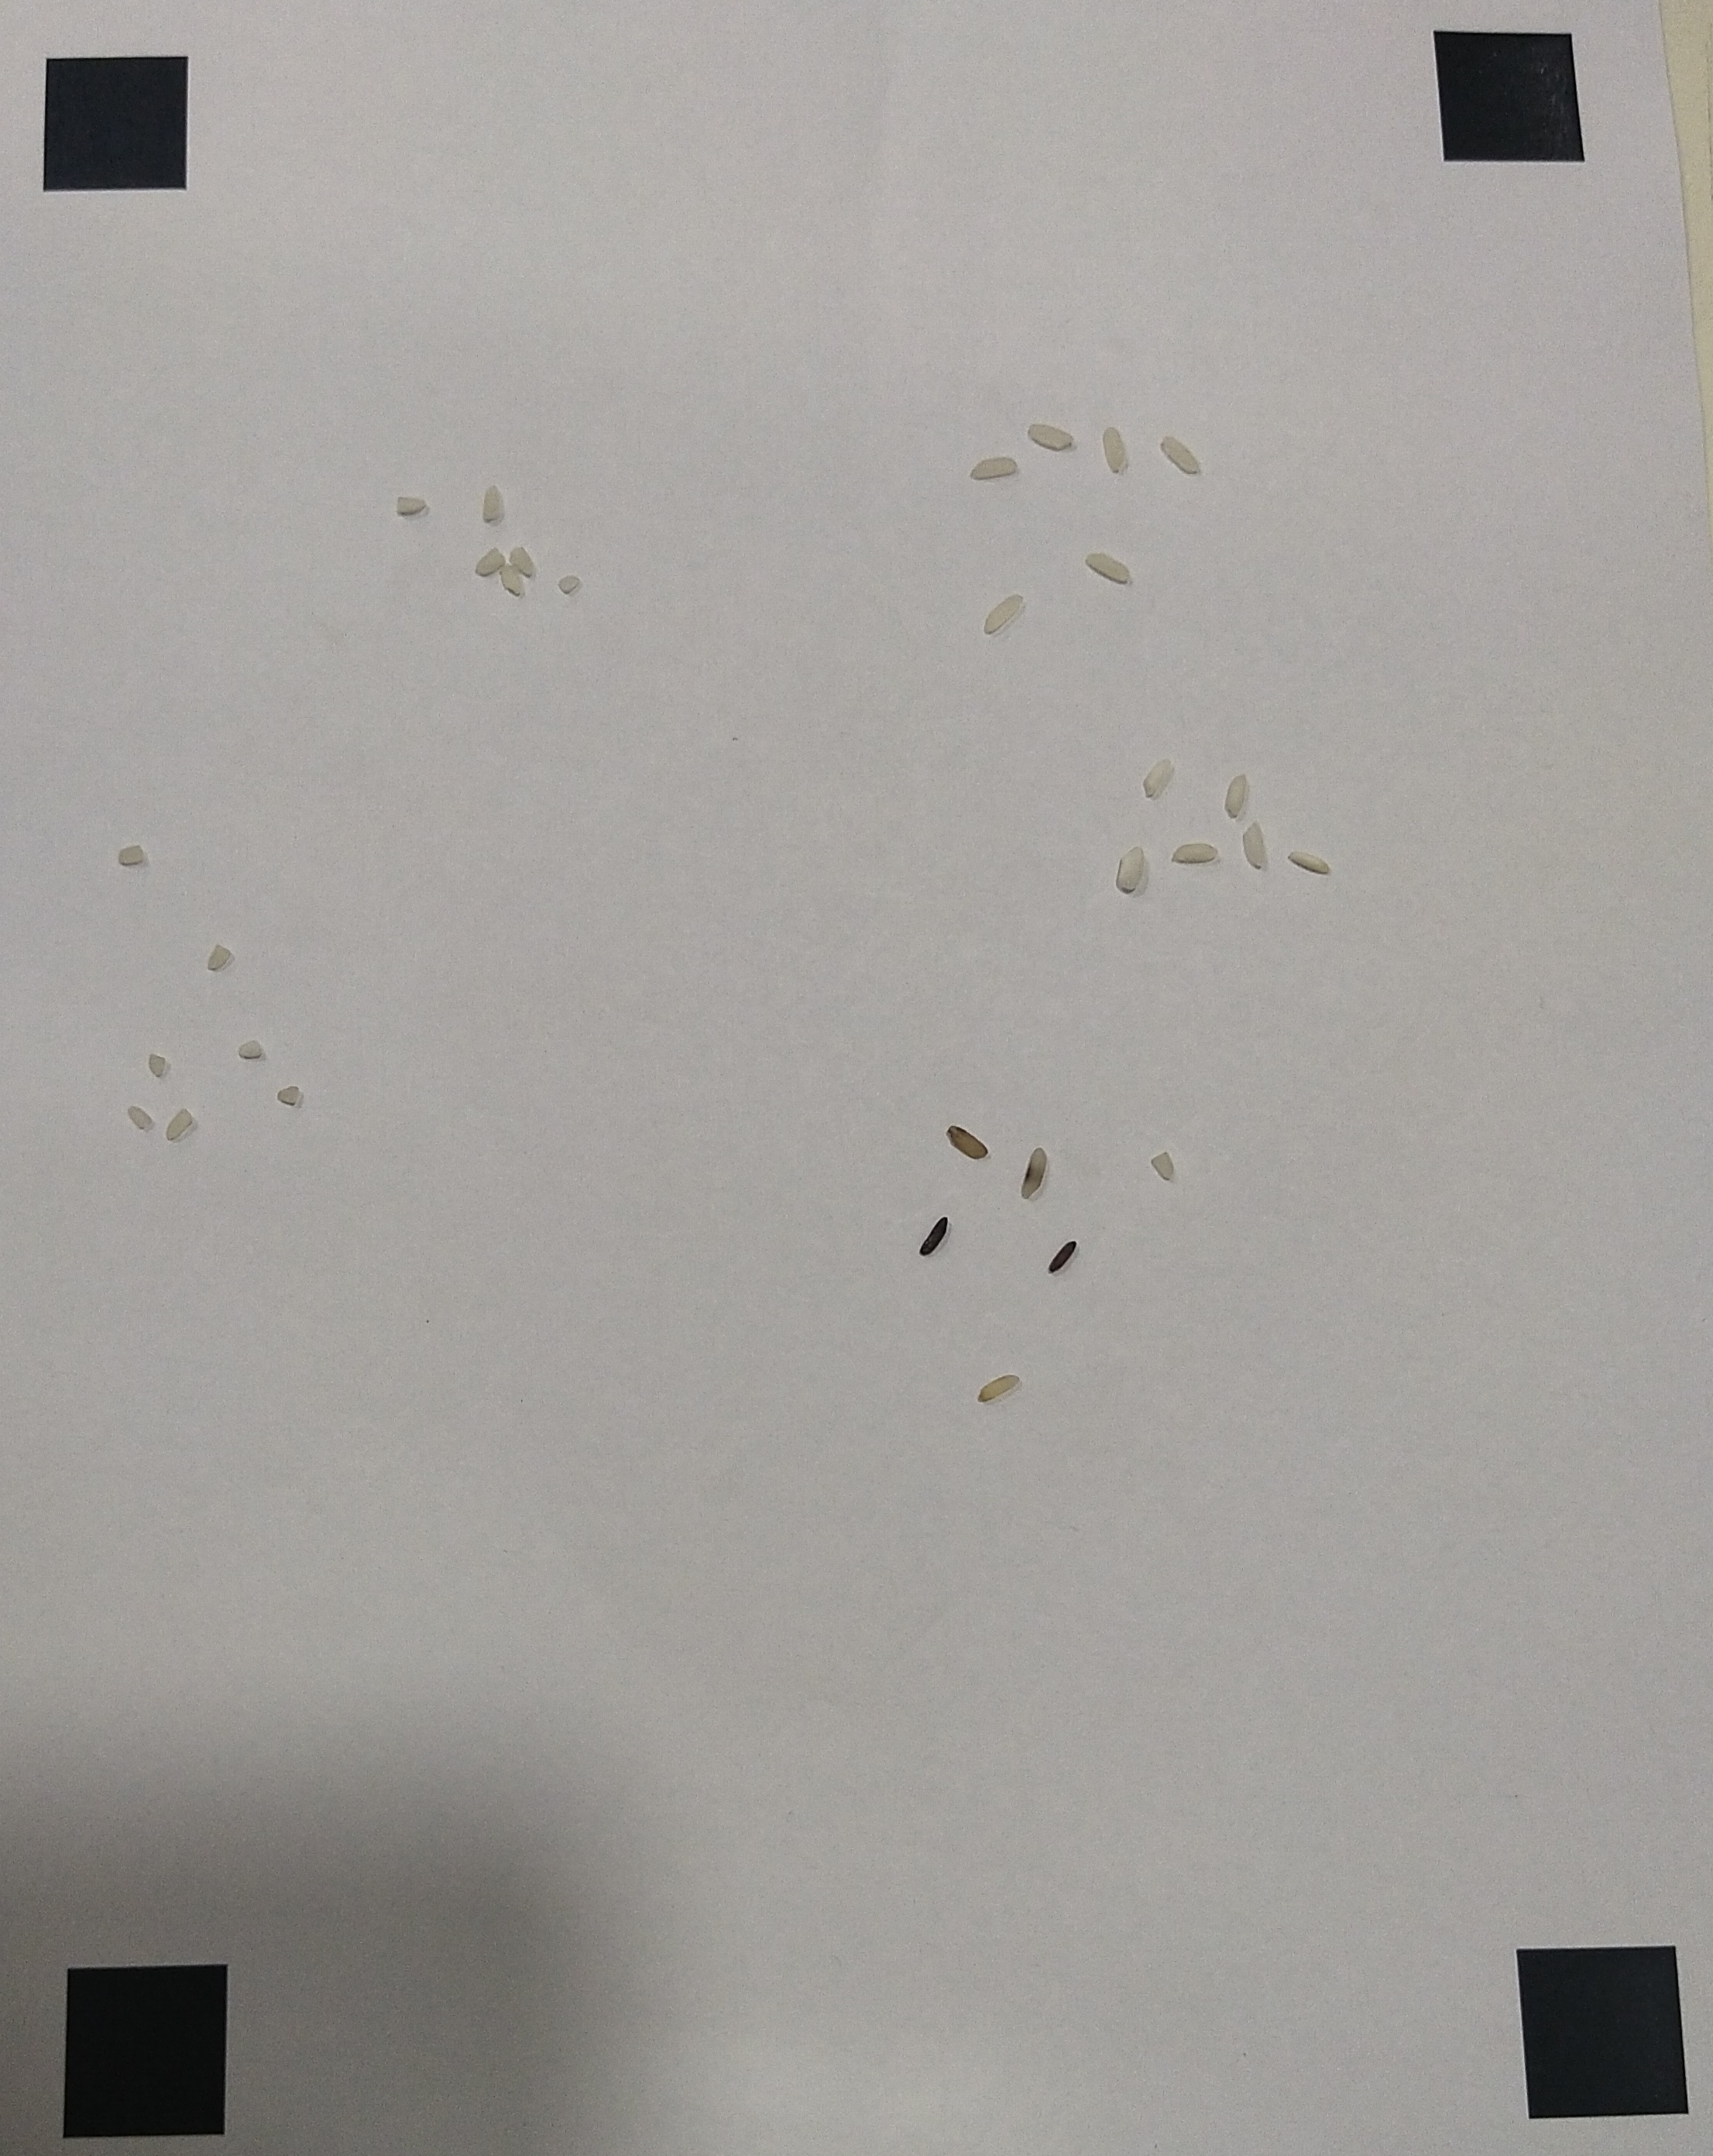broken: (205, 940, 236, 975), (168, 1108, 191, 1144), (1151, 1150, 1174, 1183), (124, 1103, 150, 1129), (117, 842, 145, 866), (238, 1036, 262, 1062), (275, 1085, 303, 1108), (149, 1054, 171, 1081)
chalky: (1116, 843, 1146, 892), (1241, 821, 1269, 870), (1288, 847, 1328, 875), (1143, 758, 1169, 798), (1172, 842, 1218, 861), (1227, 773, 1246, 819)
damage: (509, 544, 541, 578), (483, 483, 502, 527), (474, 549, 506, 576), (395, 492, 429, 516), (499, 567, 523, 595), (560, 572, 579, 593)
discolor: (945, 1125, 990, 1162), (917, 1213, 950, 1257), (1022, 1146, 1048, 1199), (978, 1372, 1020, 1402), (1048, 1239, 1078, 1276)
good: (985, 593, 1025, 637), (1162, 432, 1199, 474), (1087, 551, 1130, 583), (968, 453, 1020, 479), (1027, 424, 1073, 450), (1102, 425, 1127, 471)
